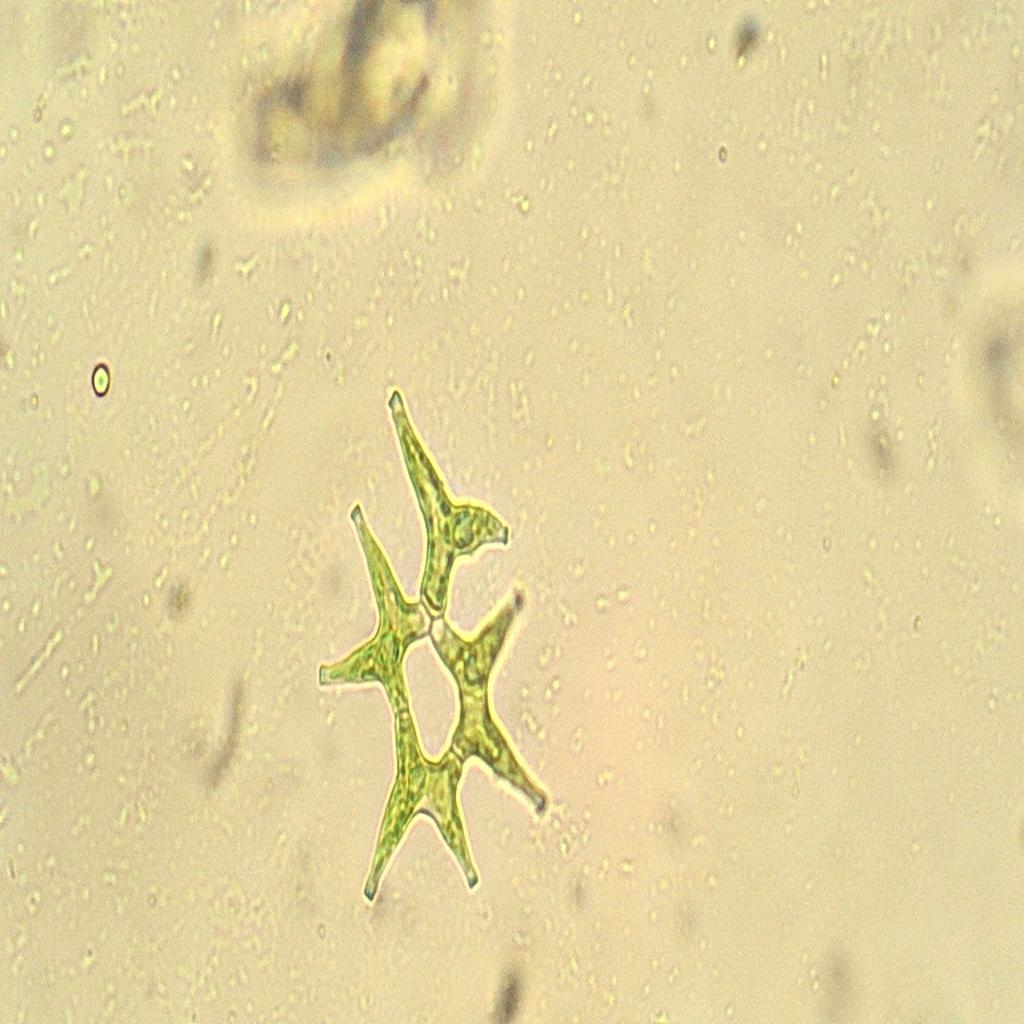Pediastrum_75FI: (310, 355, 556, 931)
